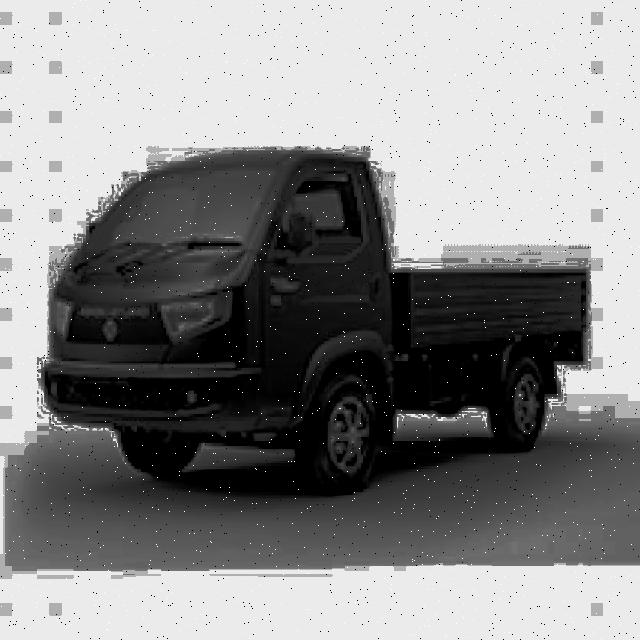LCV: (26, 57, 592, 529)
